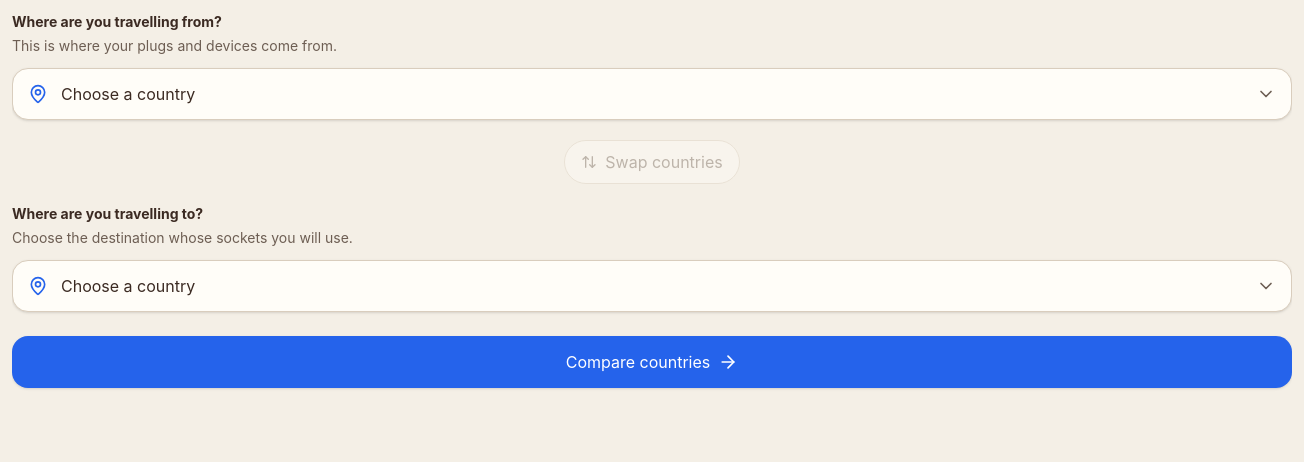
Scenario: comparison form › explains missing selections
Click the button "Compare countries". click: point(652, 362)
box: [12,336,1292,388]
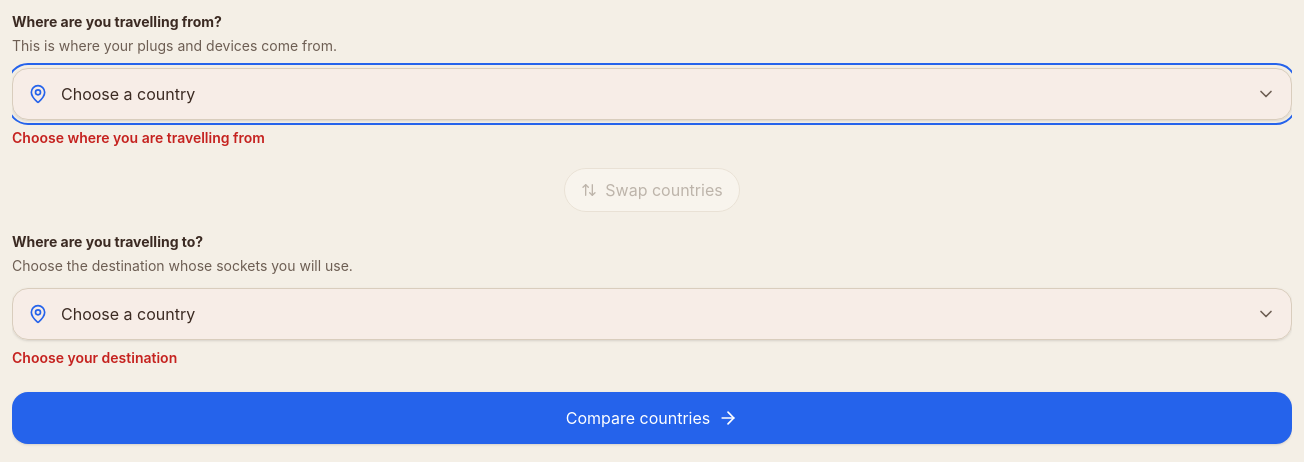
expect the text "Choose where you are travelling from" is shown: met, box [12,129,265,146]
expect the text "Choose your destination" is shown: met, box [12,349,177,366]
